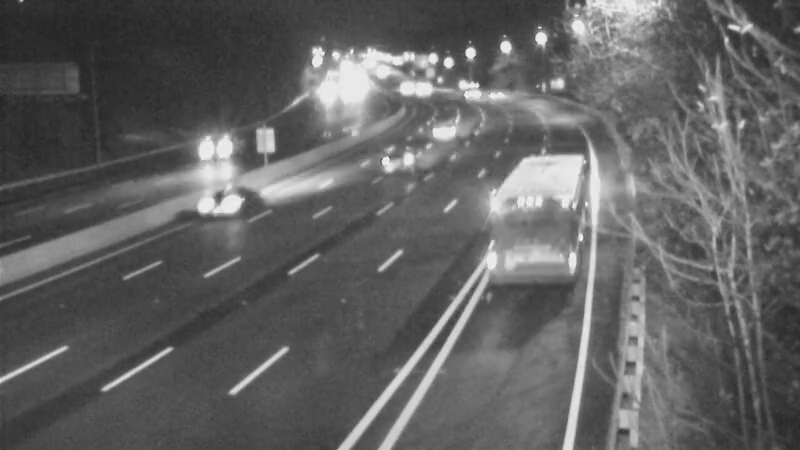vehicle: (363, 113, 443, 193), (498, 159, 578, 239), (176, 112, 256, 192), (438, 59, 488, 109), (380, 58, 430, 108), (396, 63, 446, 113), (465, 68, 515, 118), (421, 100, 471, 150)
